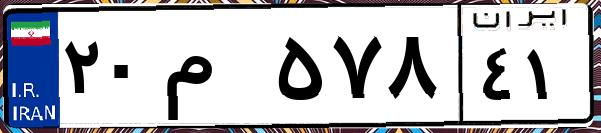0: (110, 28, 158, 98)
1: (525, 38, 570, 115)
2: (57, 26, 110, 100)
4: (475, 38, 525, 113)
5: (270, 28, 330, 110)
7: (330, 28, 385, 110)
8: (385, 28, 445, 110)
م: (158, 20, 270, 120)
